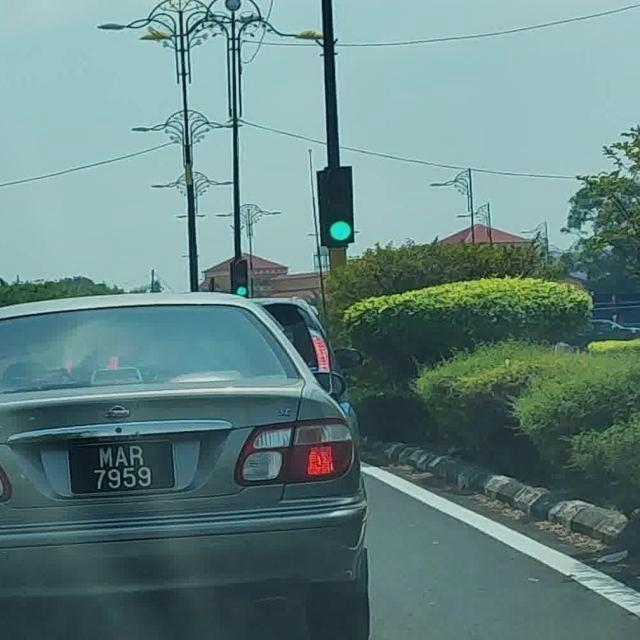Green: (324, 165, 354, 243), (232, 258, 248, 299)
